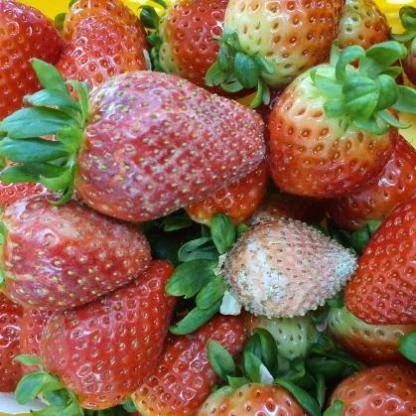Strawberry_Powdery_Mildew_Fruit: (70, 69, 267, 222), (0, 193, 152, 310), (222, 214, 360, 317)
